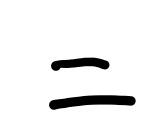eqv: (47, 54, 139, 113)
